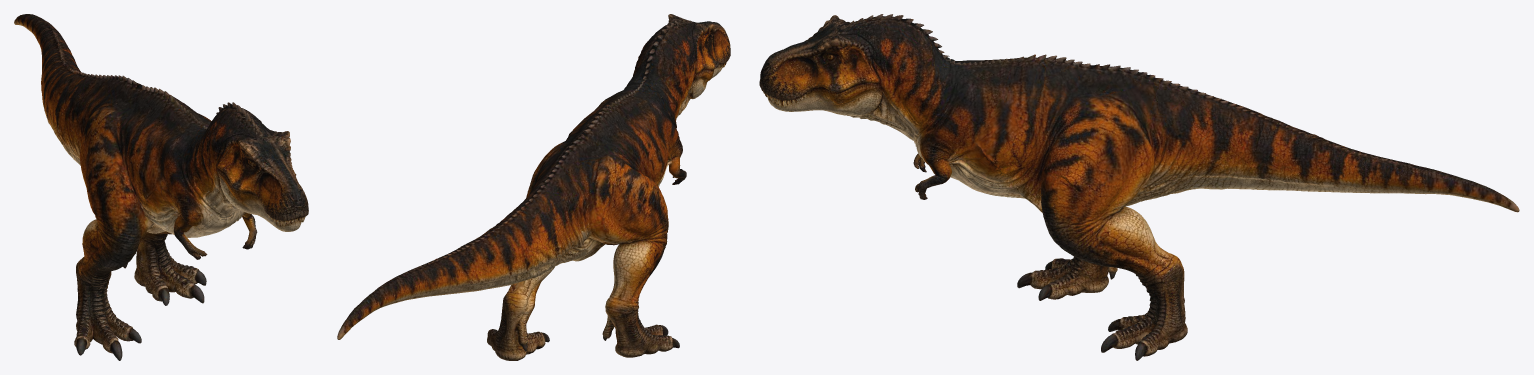
The model's file is t-rex.glb.
3 renders of one model, left to right at view 1: azimuth 30°, elevation 25°; view 2: azimuth 150°, elevation 25°; view 3: azimuth 270°, elevation 25°, orthographic. The views are drawn at different scales.
Visible parts, largest first — view 1: t-rex; view 2: t-rex; view 3: t-rex.
Boxes of the visible parts, <box> form: t-rex: <box>14,14,308,360</box>; t-rex: <box>337,14,730,360</box>; t-rex: <box>759,14,1519,360</box>.
Size of the model in its own units: 3.31 by 5.32 by 12.
Materials: 1 (1 with a texture image).
